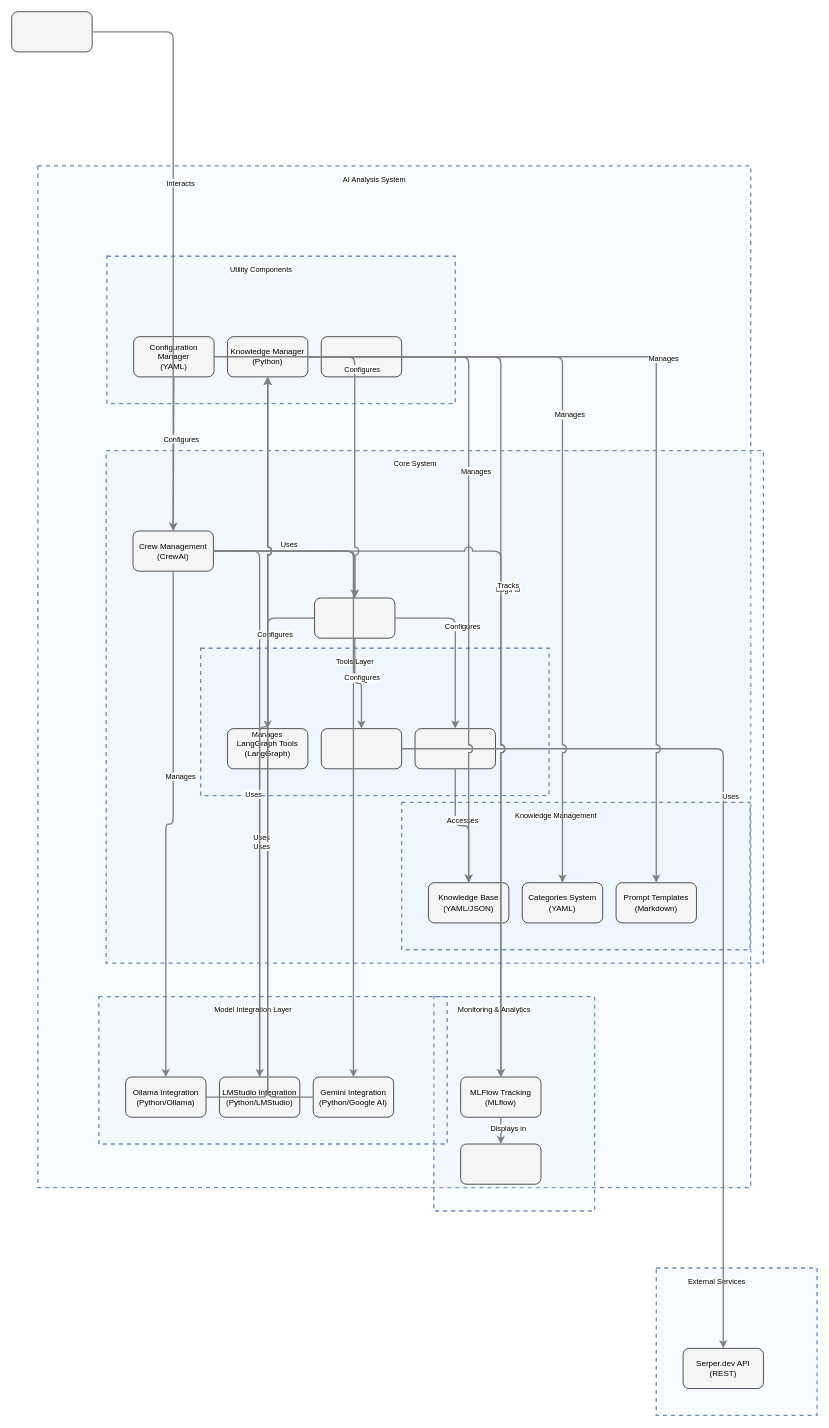
The diagram is 829 pixels wide and 1428 high, and some of its shapes have lost their labels. The shapes that lost their labels are listed below. From the top down, each one's box as (x1, y1, x2, y2) in pixels, then its label:
(11, 11, 92, 52): External User
(321, 336, 402, 377): Performance Monitor (Python)
(314, 597, 395, 638): Task Management (YAML Config)
(321, 728, 402, 769): LangChain Tools (LangChain)
(414, 728, 495, 769): Custom Tools (Python)
(460, 1143, 541, 1184): MLFlow Dashboard (Python/MLflow)
